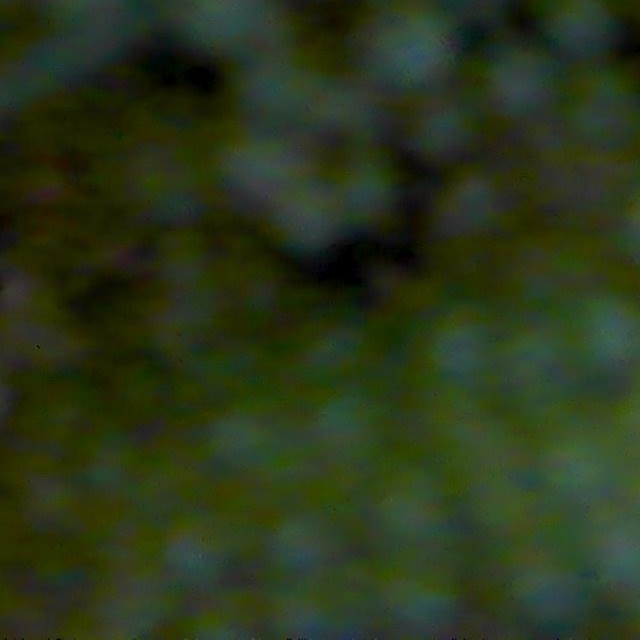SeaGrape: (352, 0, 457, 91), (466, 43, 560, 124), (540, 420, 627, 506), (234, 62, 317, 141), (217, 128, 302, 204), (565, 65, 640, 149), (423, 307, 499, 387), (268, 176, 345, 254), (433, 166, 510, 242), (324, 155, 396, 234), (536, 0, 627, 60), (573, 290, 640, 371), (403, 101, 477, 166)
